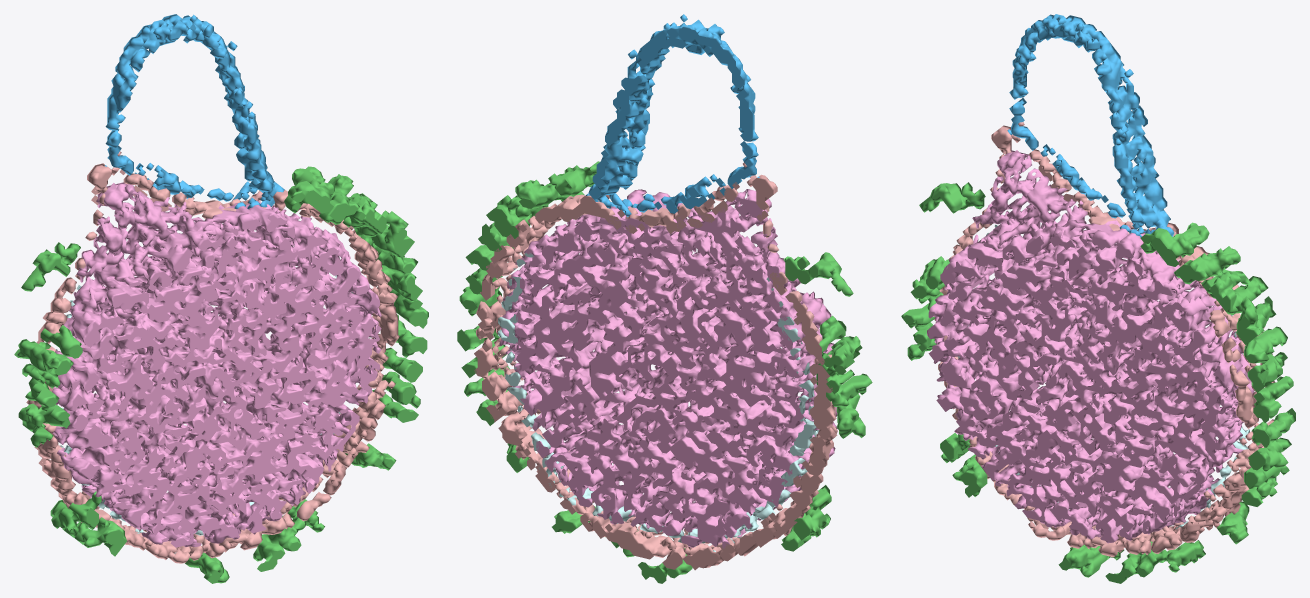
Rendered from hemifusion.glb.
3 renders of one model, left to right at view 1: azimuth 30°, elevation 25°; view 2: azimuth 150°, elevation 25°; view 3: azimuth 330°, elevation 25°, orthographic. The views are drawn at different scales.
Parts seen in each view (by area): view 1: surface (×4); view 2: surface (×5); view 3: surface (×5).
Boxes of the visible parts, x1,y1,x2,y2 form: surface (×4): [14, 14, 428, 583]; surface (×5): [457, 14, 872, 583]; surface (×5): [901, 14, 1295, 583].
Size of the model in its own units: 960 by 1330 by 120.
